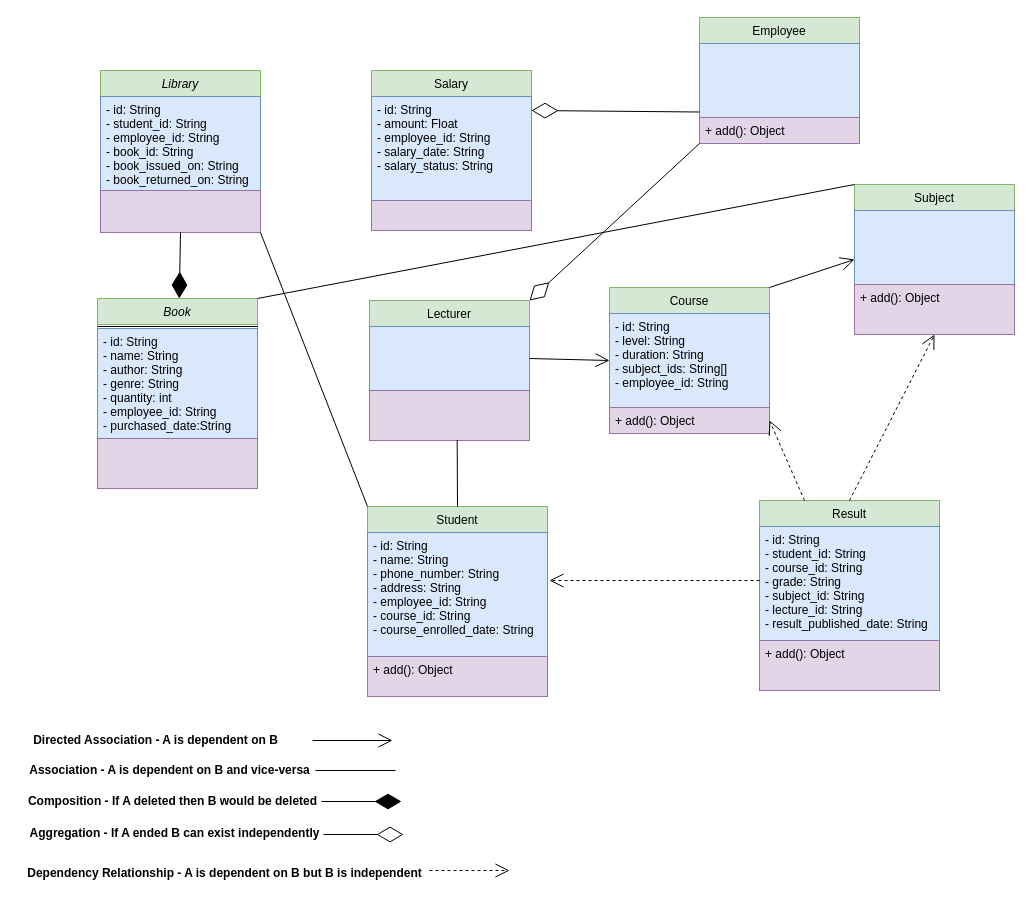
Image size: 1032x906. Some labels were removed from this diagram. Here are the shapes that lost their labels. From the top down, the centre of each, then its label:
point 779,80: - id: String - phone_number: String - name: String - address: String
point 180,211: + issue(): Object + return(): Object
point 451,215: + pay(): Object
point 934,247: - id: String - book_ids: String[] - employee_id: String - name: String
point 449,358: - id: String - employee_id: String - course_ids: String[]
point 449,415: + add(): Object + delete(): Object
point 177,463: + add(): Object + delete(): void + issue(): Object
